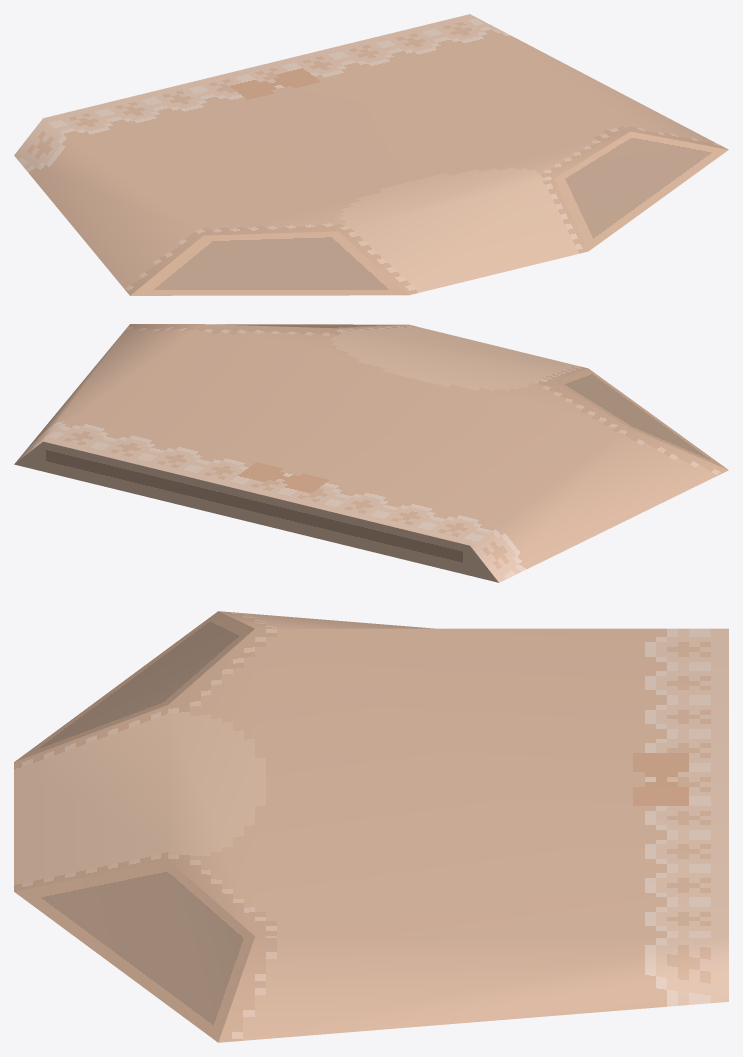
Rendered from 053c_Underwear.glb.
The picture shows the model from 3 angles, top to bottom: view 1: azimuth 30°, elevation 25°; view 2: azimuth 150°, elevation 25°; view 3: azimuth 270°, elevation 25°; orthographic projection. The views are drawn at different scales.
Visible parts, largest first — view 1: part_0; view 2: part_0; view 3: part_0.
Boxes of the visible parts, left/top/right/bottom form: part_0: left=14, top=14, right=728, bottom=295; part_0: left=14, top=324, right=728, bottom=582; part_0: left=14, top=611, right=728, bottom=1042.
Bounding box in the file's own units: 0.3125 × 0.015 × 0.2187.
1 material, 1 textured.
